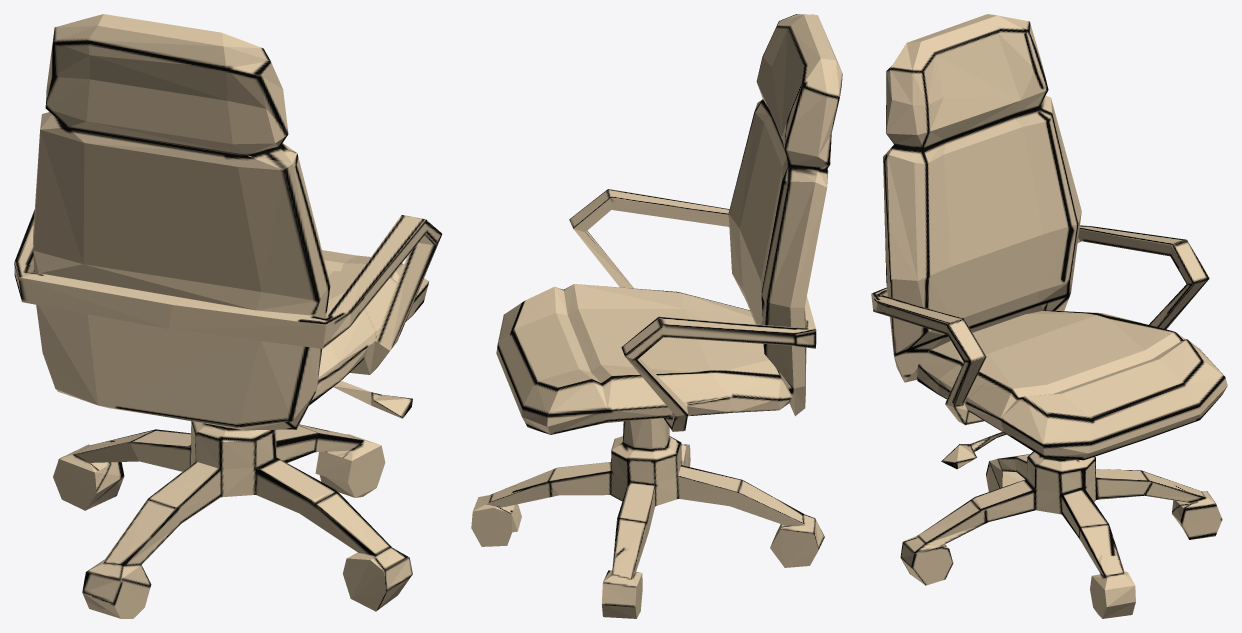
File: chair4-19.glb
The picture shows the model from 3 angles, left to right: view 1: azimuth 30°, elevation 25°; view 2: azimuth 150°, elevation 25°; view 3: azimuth 270°, elevation 25°; orthographic projection. The views are drawn at different scales.
Parts seen in each view (by area): view 1: Computer Chair; view 2: Computer Chair; view 3: Computer Chair.
Boxes of the visible parts, x1,y1,x2,y2 form: Computer Chair: (14, 14, 442, 618); Computer Chair: (471, 14, 842, 618); Computer Chair: (871, 14, 1227, 618).
Size of the model in its own units: 3.13 by 4.63 by 3.14.
Materials: 1 (1 with a texture image).
